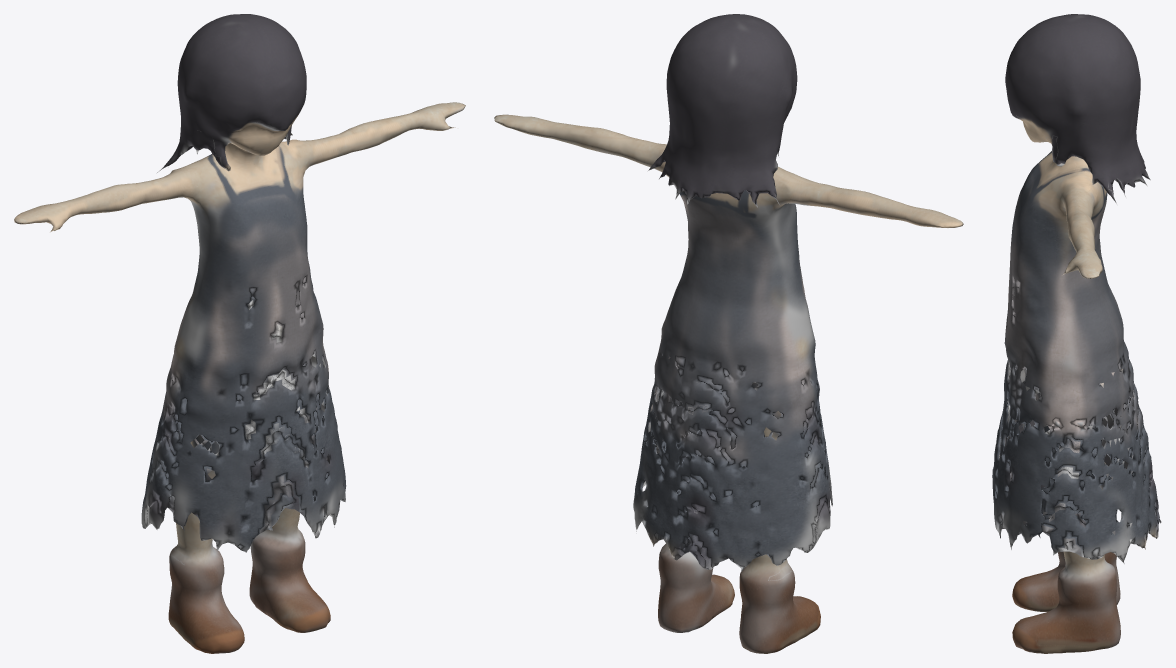
Rendered from Tpost_4.fbx.
3 views of the same model, side by side, from view 1: azimuth 30°, elevation 25°; view 2: azimuth 150°, elevation 25°; view 3: azimuth 270°, elevation 25° (orthographic).
Parts seen in each view (by area): view 1: PM3D_ce_ping_ju__jian_mian:Group61707; view 2: PM3D_ce_ping_ju__jian_mian:Group61707; view 3: PM3D_ce_ping_ju__jian_mian:Group61707.
Boxes of the visible parts, x1,y1,x2,y2 form: PM3D_ce_ping_ju__jian_mian:Group61707: [14, 14, 465, 653]; PM3D_ce_ping_ju__jian_mian:Group61707: [494, 14, 963, 653]; PM3D_ce_ping_ju__jian_mian:Group61707: [992, 14, 1161, 653].
Bounding box in the file's own units: 0.7946 × 0.9994 × 0.2539.
Materials: 1 (1 with a texture image).
